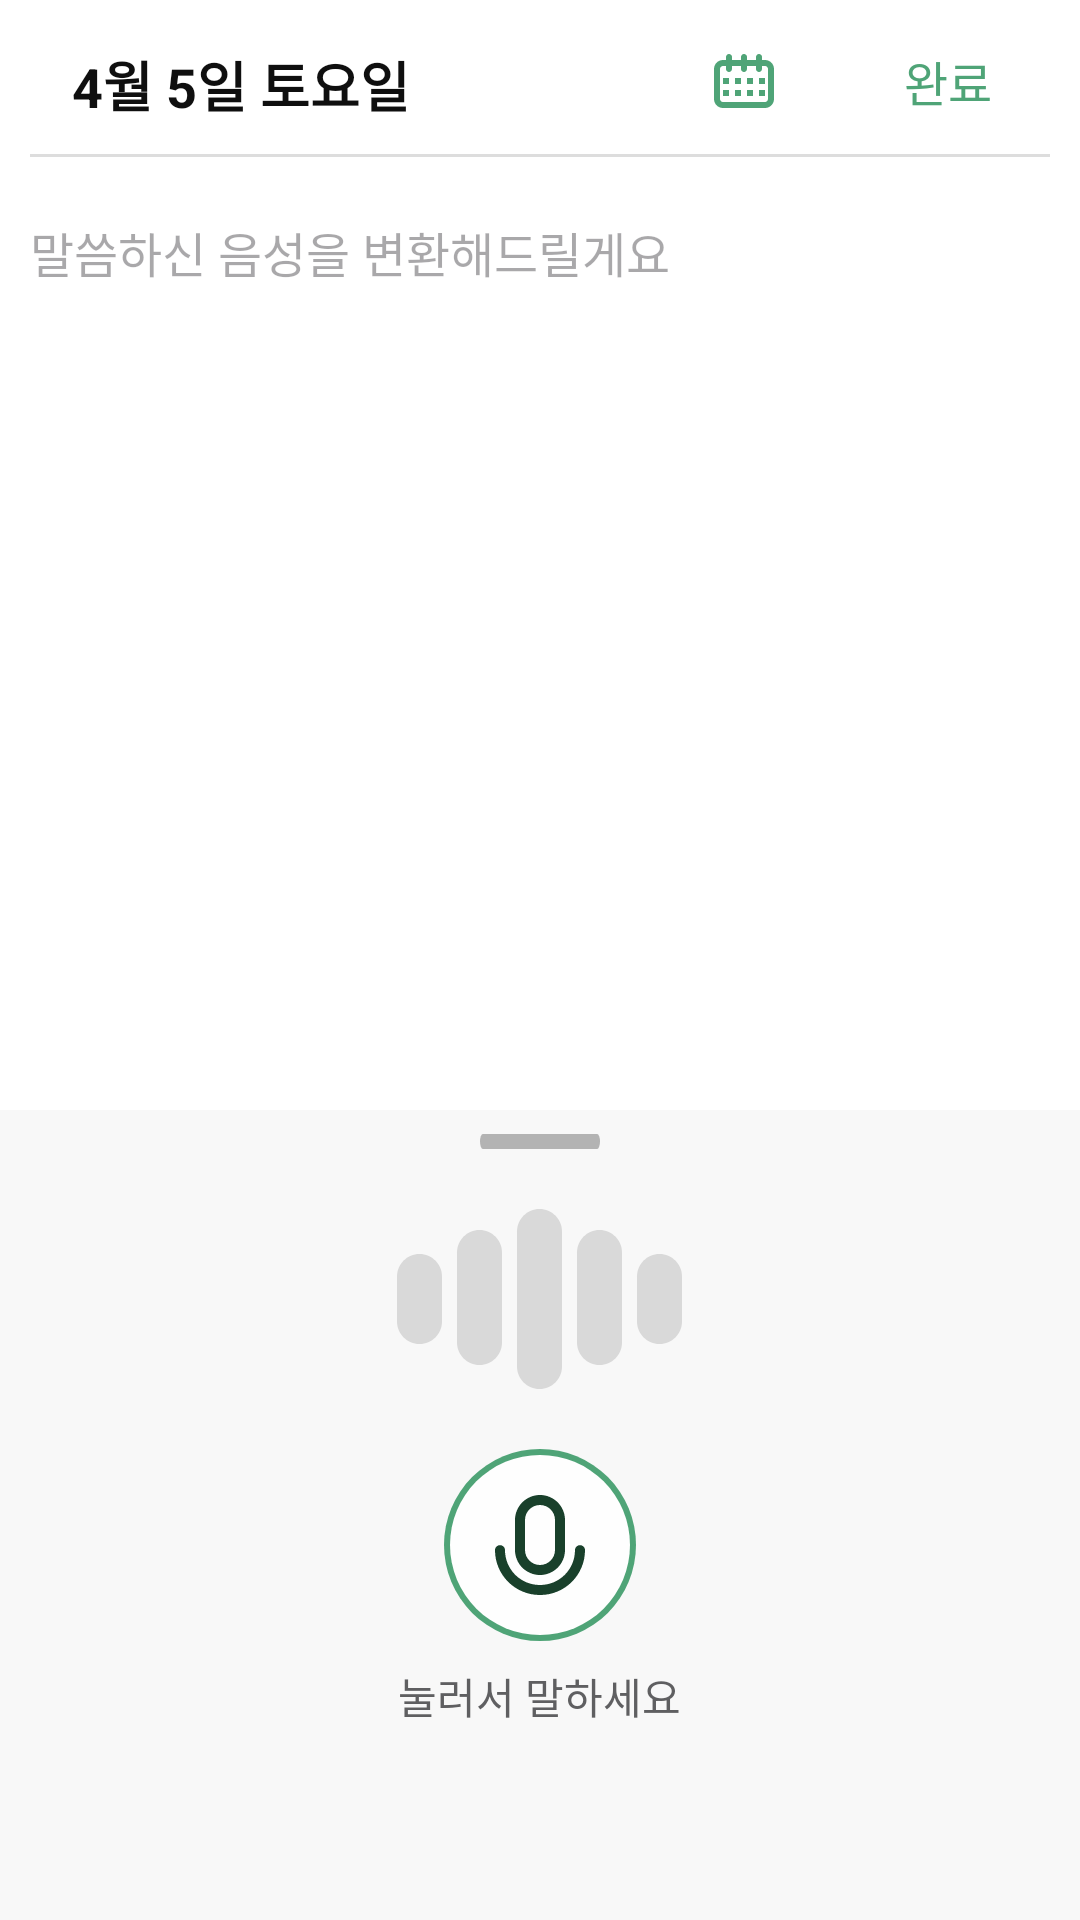

Where icons sit on this 1080x1920 app screen, as (left=x1, top=y1, right=x2, bottom=y2):
음성 파형: (left=397, top=1209, right=682, bottom=1389)
음성녹음 버튼: (left=444, top=1449, right=636, bottom=1641)
캘린더 열기: (left=714, top=54, right=774, bottom=108)
